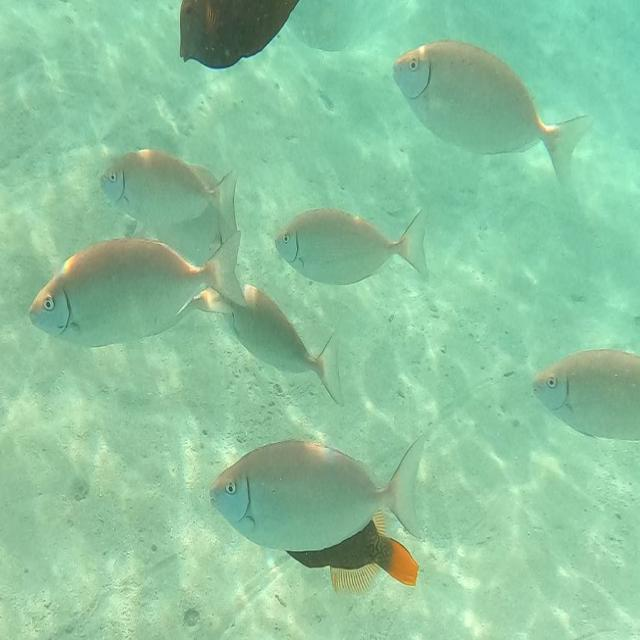Sokar Baligi: (389, 26, 595, 198), (269, 196, 441, 293)
